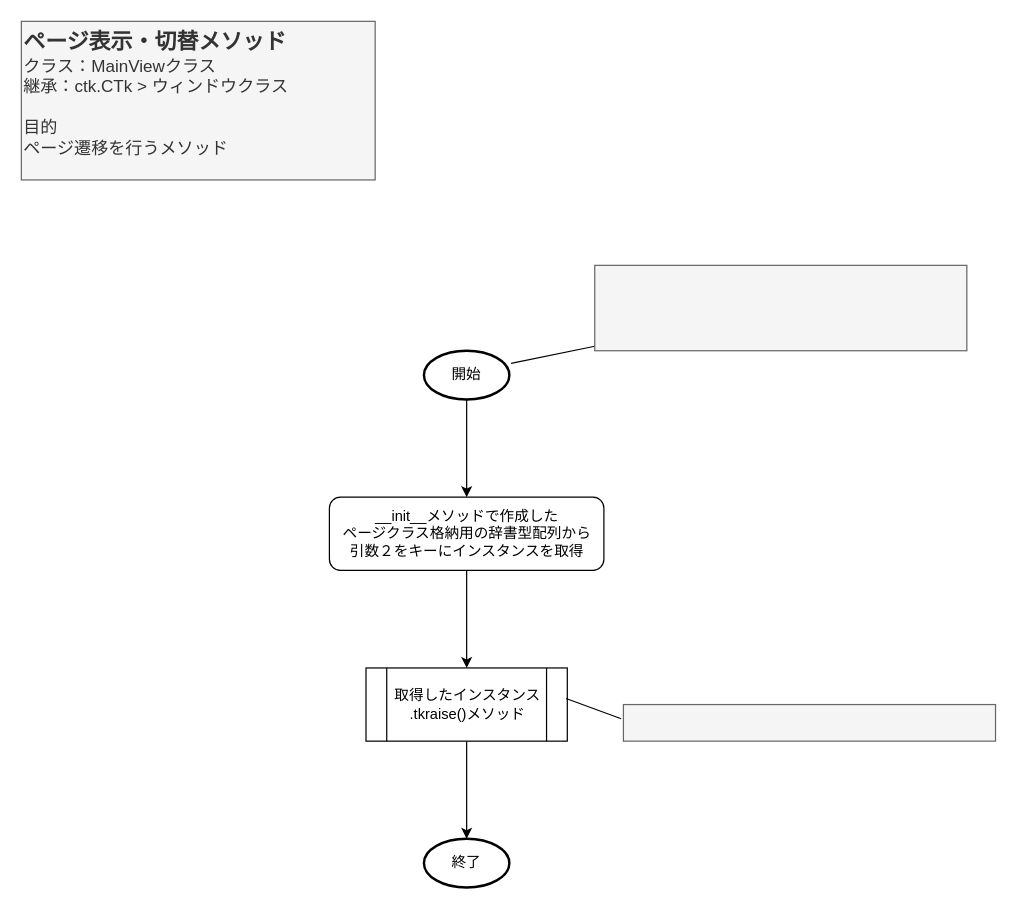
Some shapes in this 1017 by 910 pixel diagram are drawn without their labels. Each missing label, with the centre of its shape:
初期化メソッド ※インスタンス生成時に実行されます。 引数１：self >インスタンス自身 引数2：ページ名 str型＞表示したいページ名: pixel 780 307
取り出したページインスタンスを表示するメソッド: pixel 809 722
